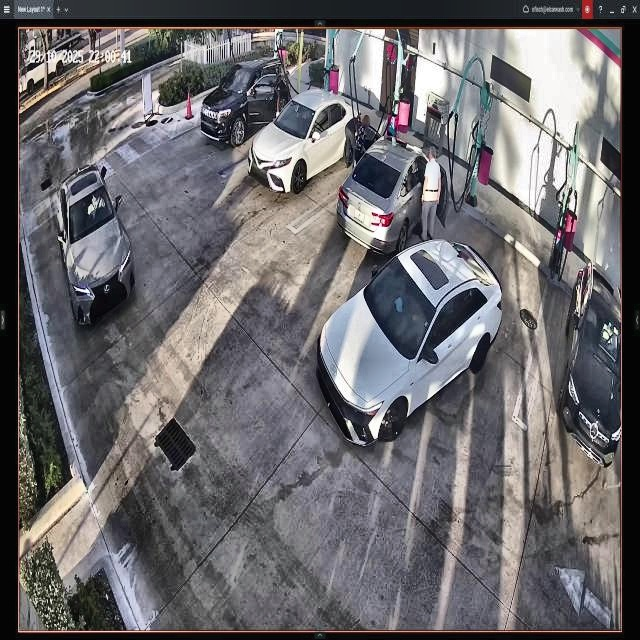Car: (318, 246, 502, 449), (335, 126, 448, 249), (248, 92, 361, 192), (193, 57, 290, 146)
